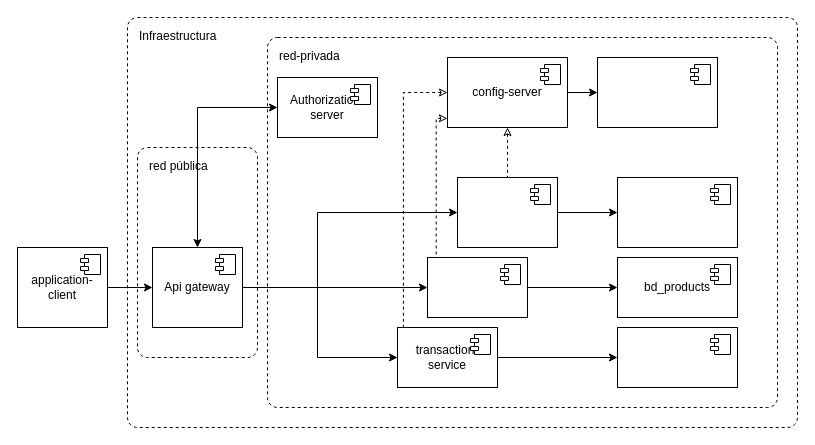
Some shapes in this 815 by 445 pixel diagram are drawn without their labels. The shapes that lost their labels are listed below. From the top down, each one's centre as x and y in pixels, then its label:
At (x=657, y=92): "git-repository config-service".
At (x=507, y=212): "user-service".
At (x=677, y=212): "bd_users".
At (x=477, y=287): "product-service".
At (x=677, y=357): "bd_transactions".
